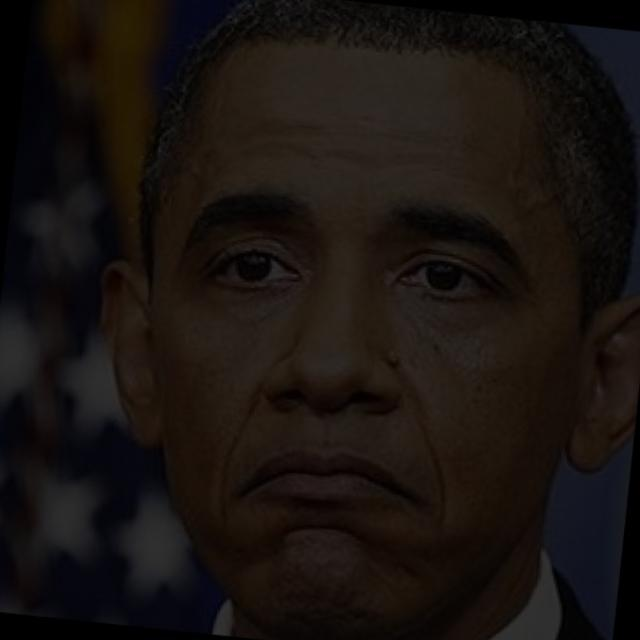Sad: (139, 132, 569, 602)
